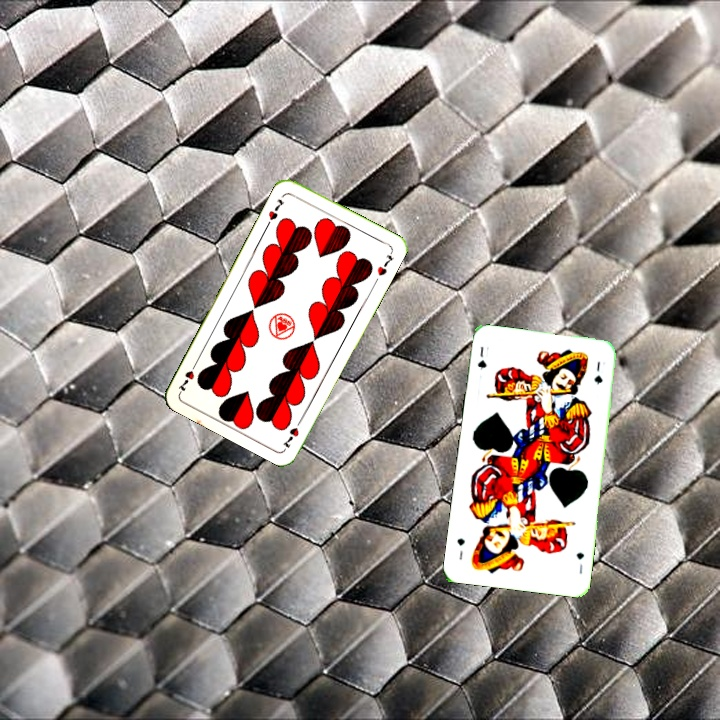GU: (473, 342, 489, 372), (572, 548, 587, 576)
H7: (279, 414, 305, 451), (264, 195, 287, 223)
